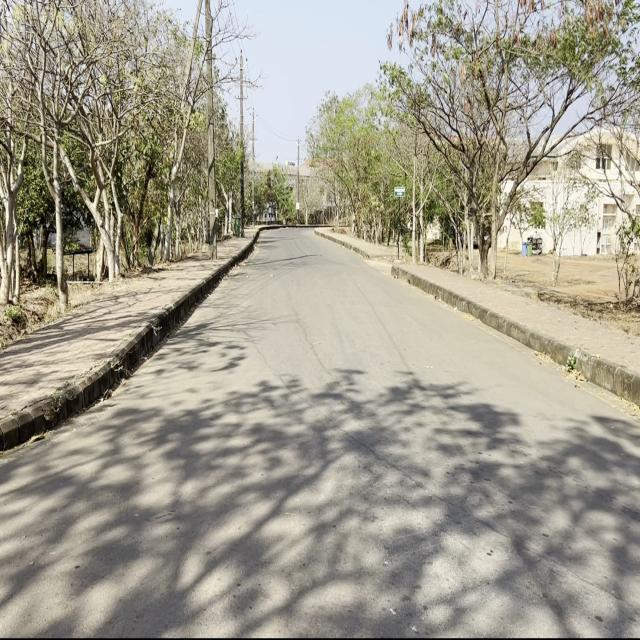Road: (5, 228, 637, 633)
